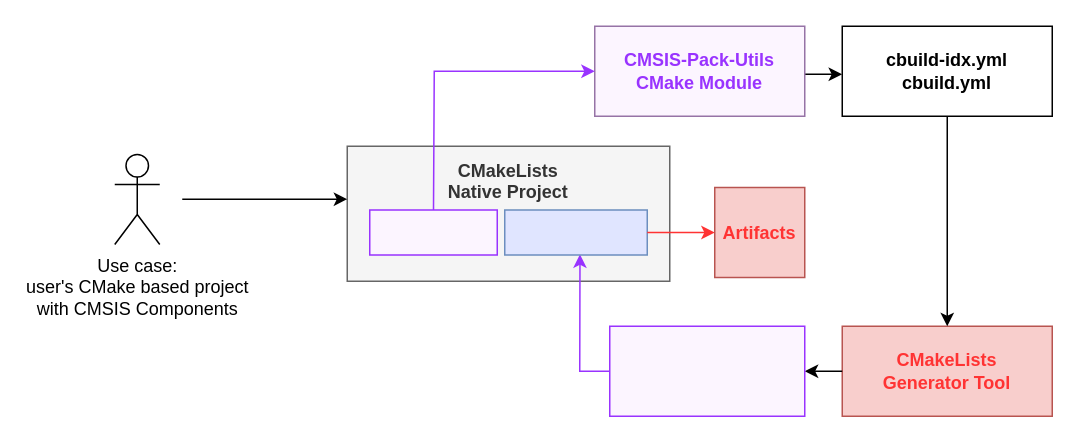
Image size: 1079x443. Some labels were removed from this diagram. The shapes that lost their labels are listed below. From the top down, each one's centre as x and y in pixels, then its label:
pixel 432 231: CMSIS Components
pixel 575 231: Custom Build Plate
pixel 706 370: Generic Build Info (Sources, Includes, Defines)
